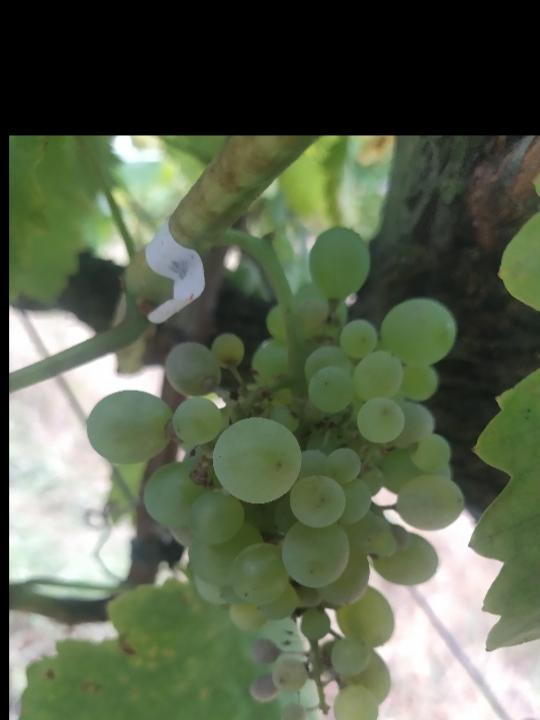grape: (83, 224, 462, 720)
